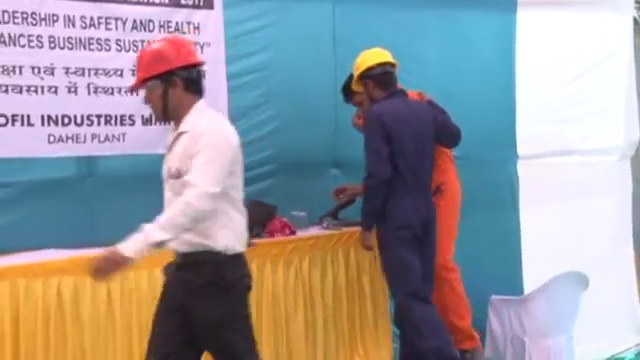helmet: (128, 34, 207, 89), (351, 45, 399, 92)
helmet_on: (127, 33, 209, 127), (350, 46, 408, 104)
person: (93, 37, 257, 360), (349, 42, 459, 360), (408, 79, 483, 357)
